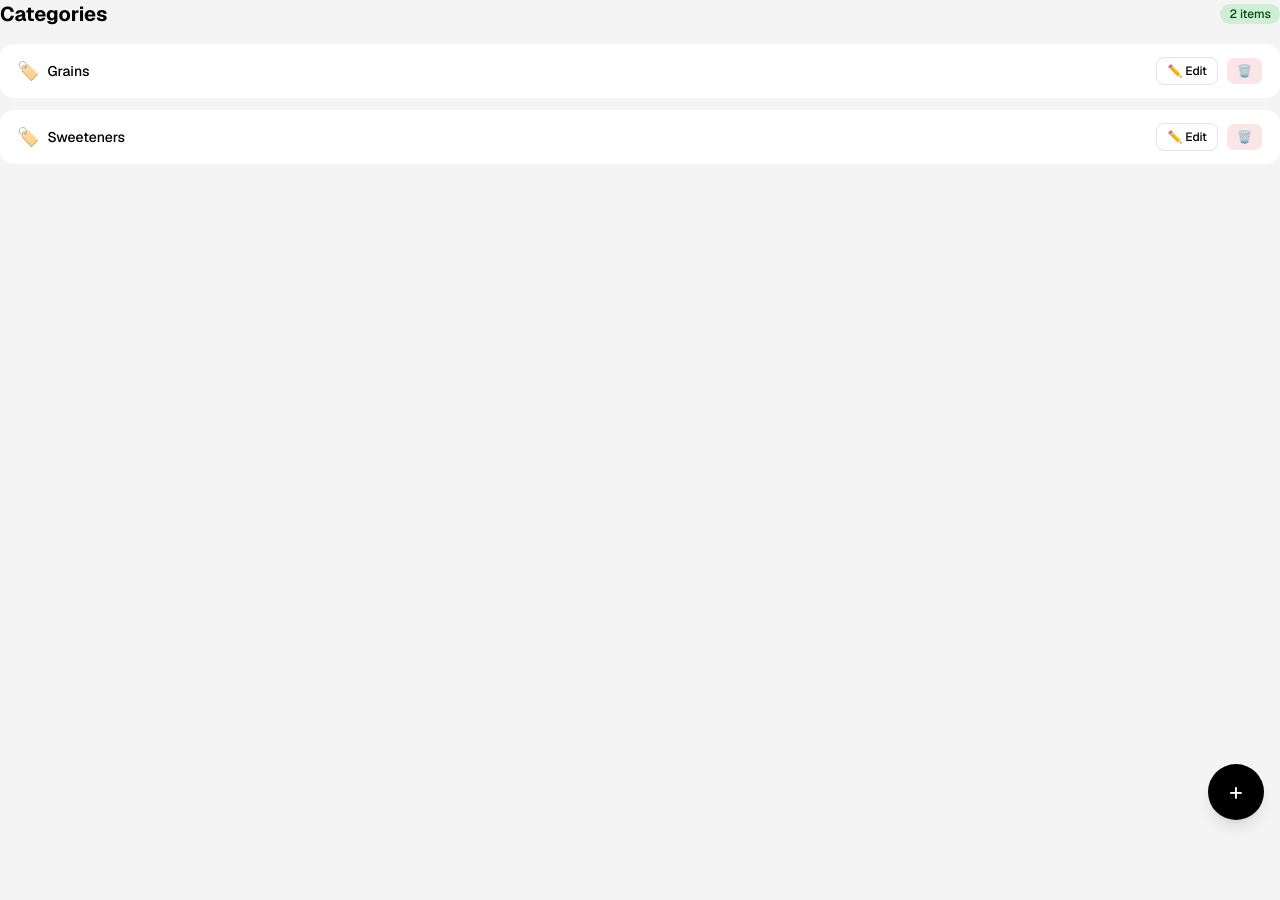
Test case: CategoriesClient CRUD Operations › Update Operation › opens edit dialog with category data
Click the button "✏️ Edit" in the row of "Grains" at (1187, 71), box [1156, 57, 1218, 85]
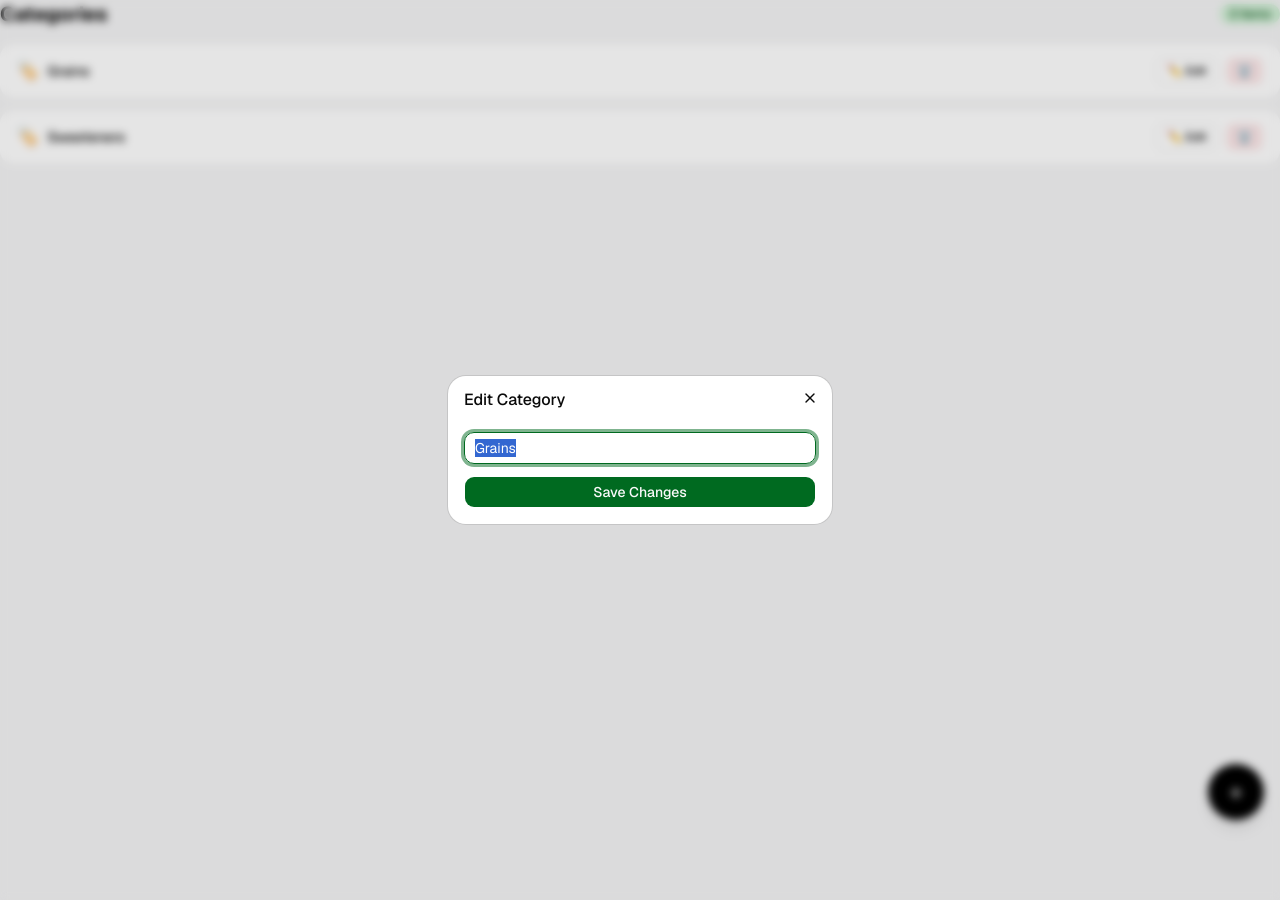
Now the heading "Edit Category" is shown, box [464, 389, 565, 410]
Now the field with placeholder "Category name" holds "Grains", box [464, 432, 816, 464]
